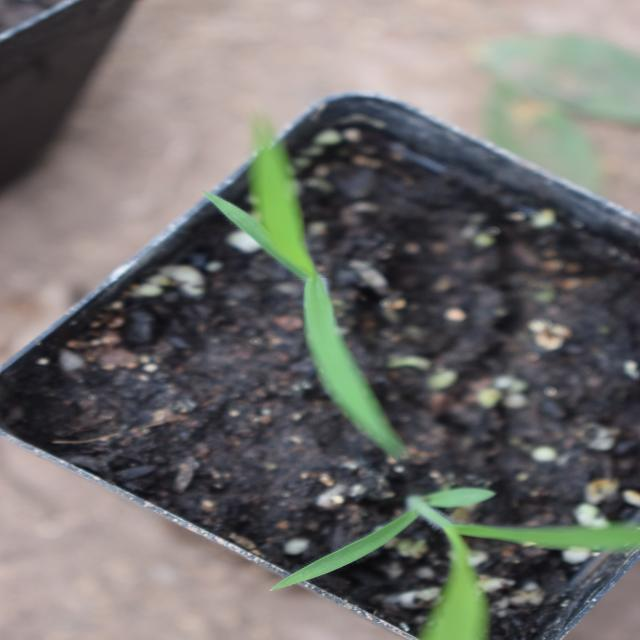crabgrass: (217, 202, 539, 394), (20, 265, 184, 628)
